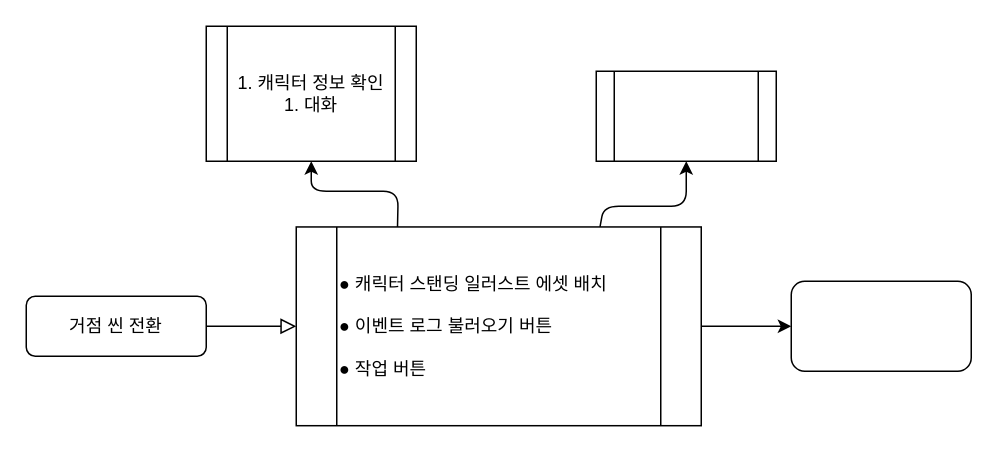
The diagram is 998 pixels wide and 453 high, and some of its shapes have lost their labels. Here are the shapes that lost their labels. From the top down, the centre of each, then its label:
At point (685, 115): "이벤트 로그 출력".
At point (880, 325): "작업 씬으로 전환 거점 씬 종료".
